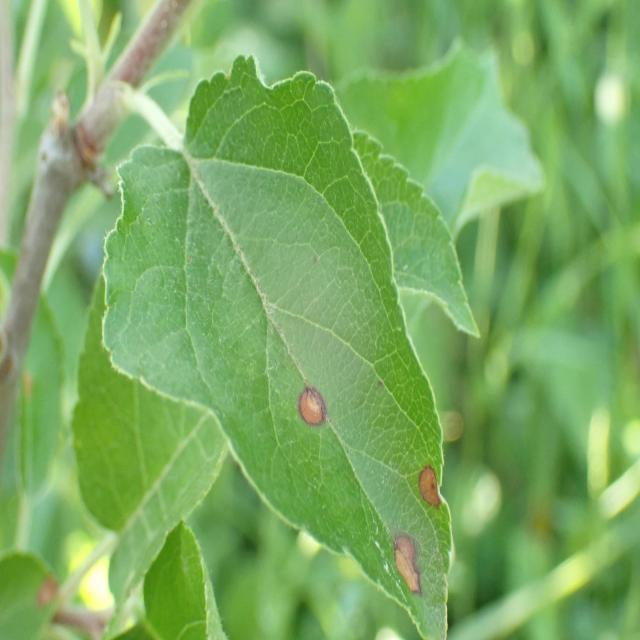frog-eye-leaf-spot: (100, 51, 453, 638)
